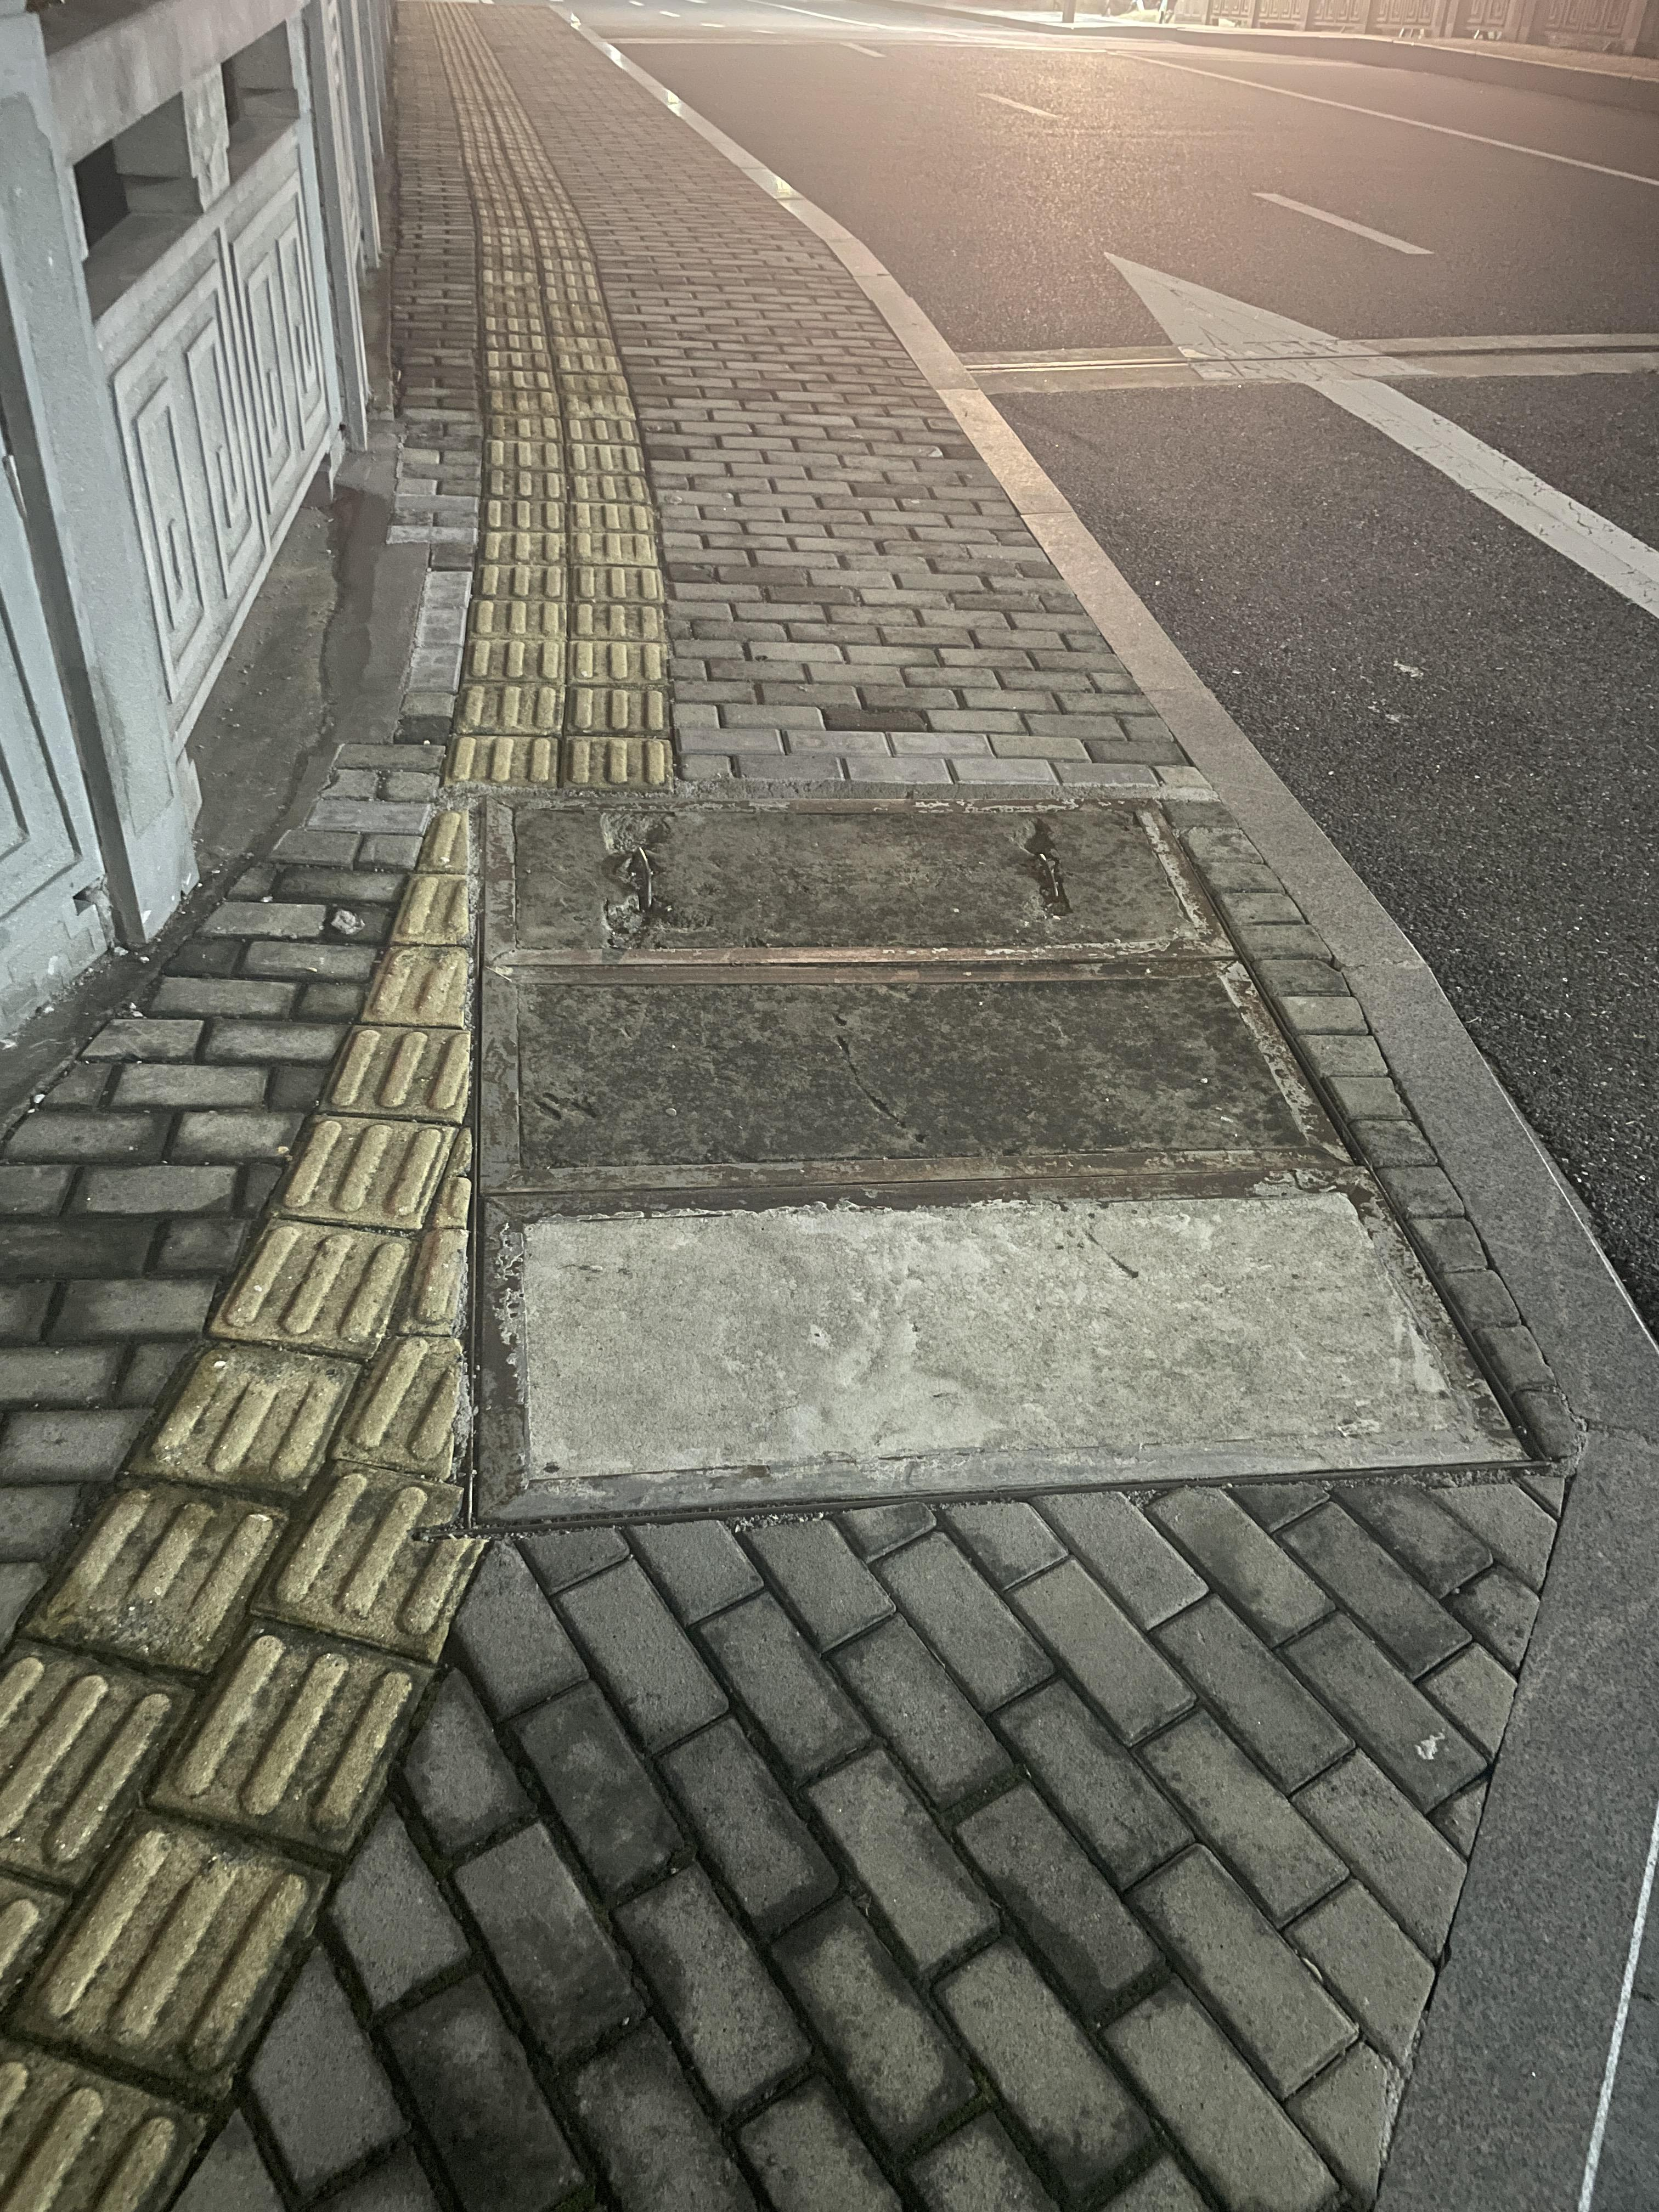wellcover: (430, 716, 1598, 1595)
